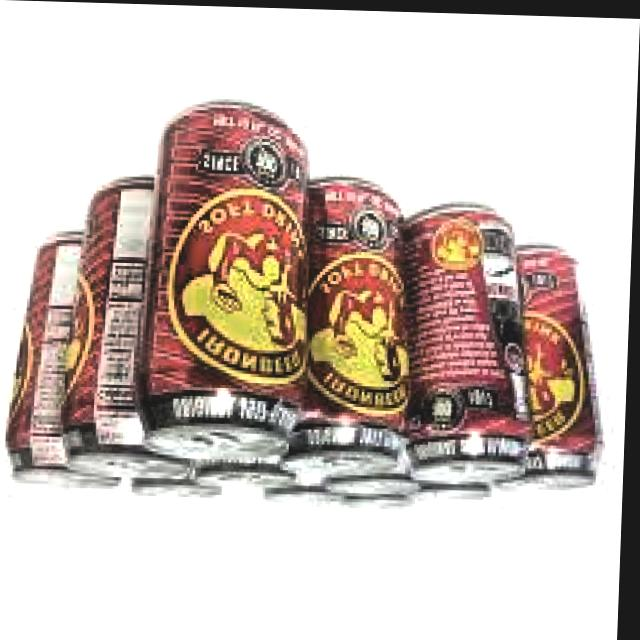can: (132, 91, 319, 466), (58, 162, 216, 484), (284, 171, 422, 477), (407, 194, 542, 486), (5, 226, 136, 492), (493, 228, 621, 499), (193, 448, 304, 499), (132, 466, 229, 505), (409, 475, 509, 509), (326, 470, 428, 499), (263, 482, 346, 510)
